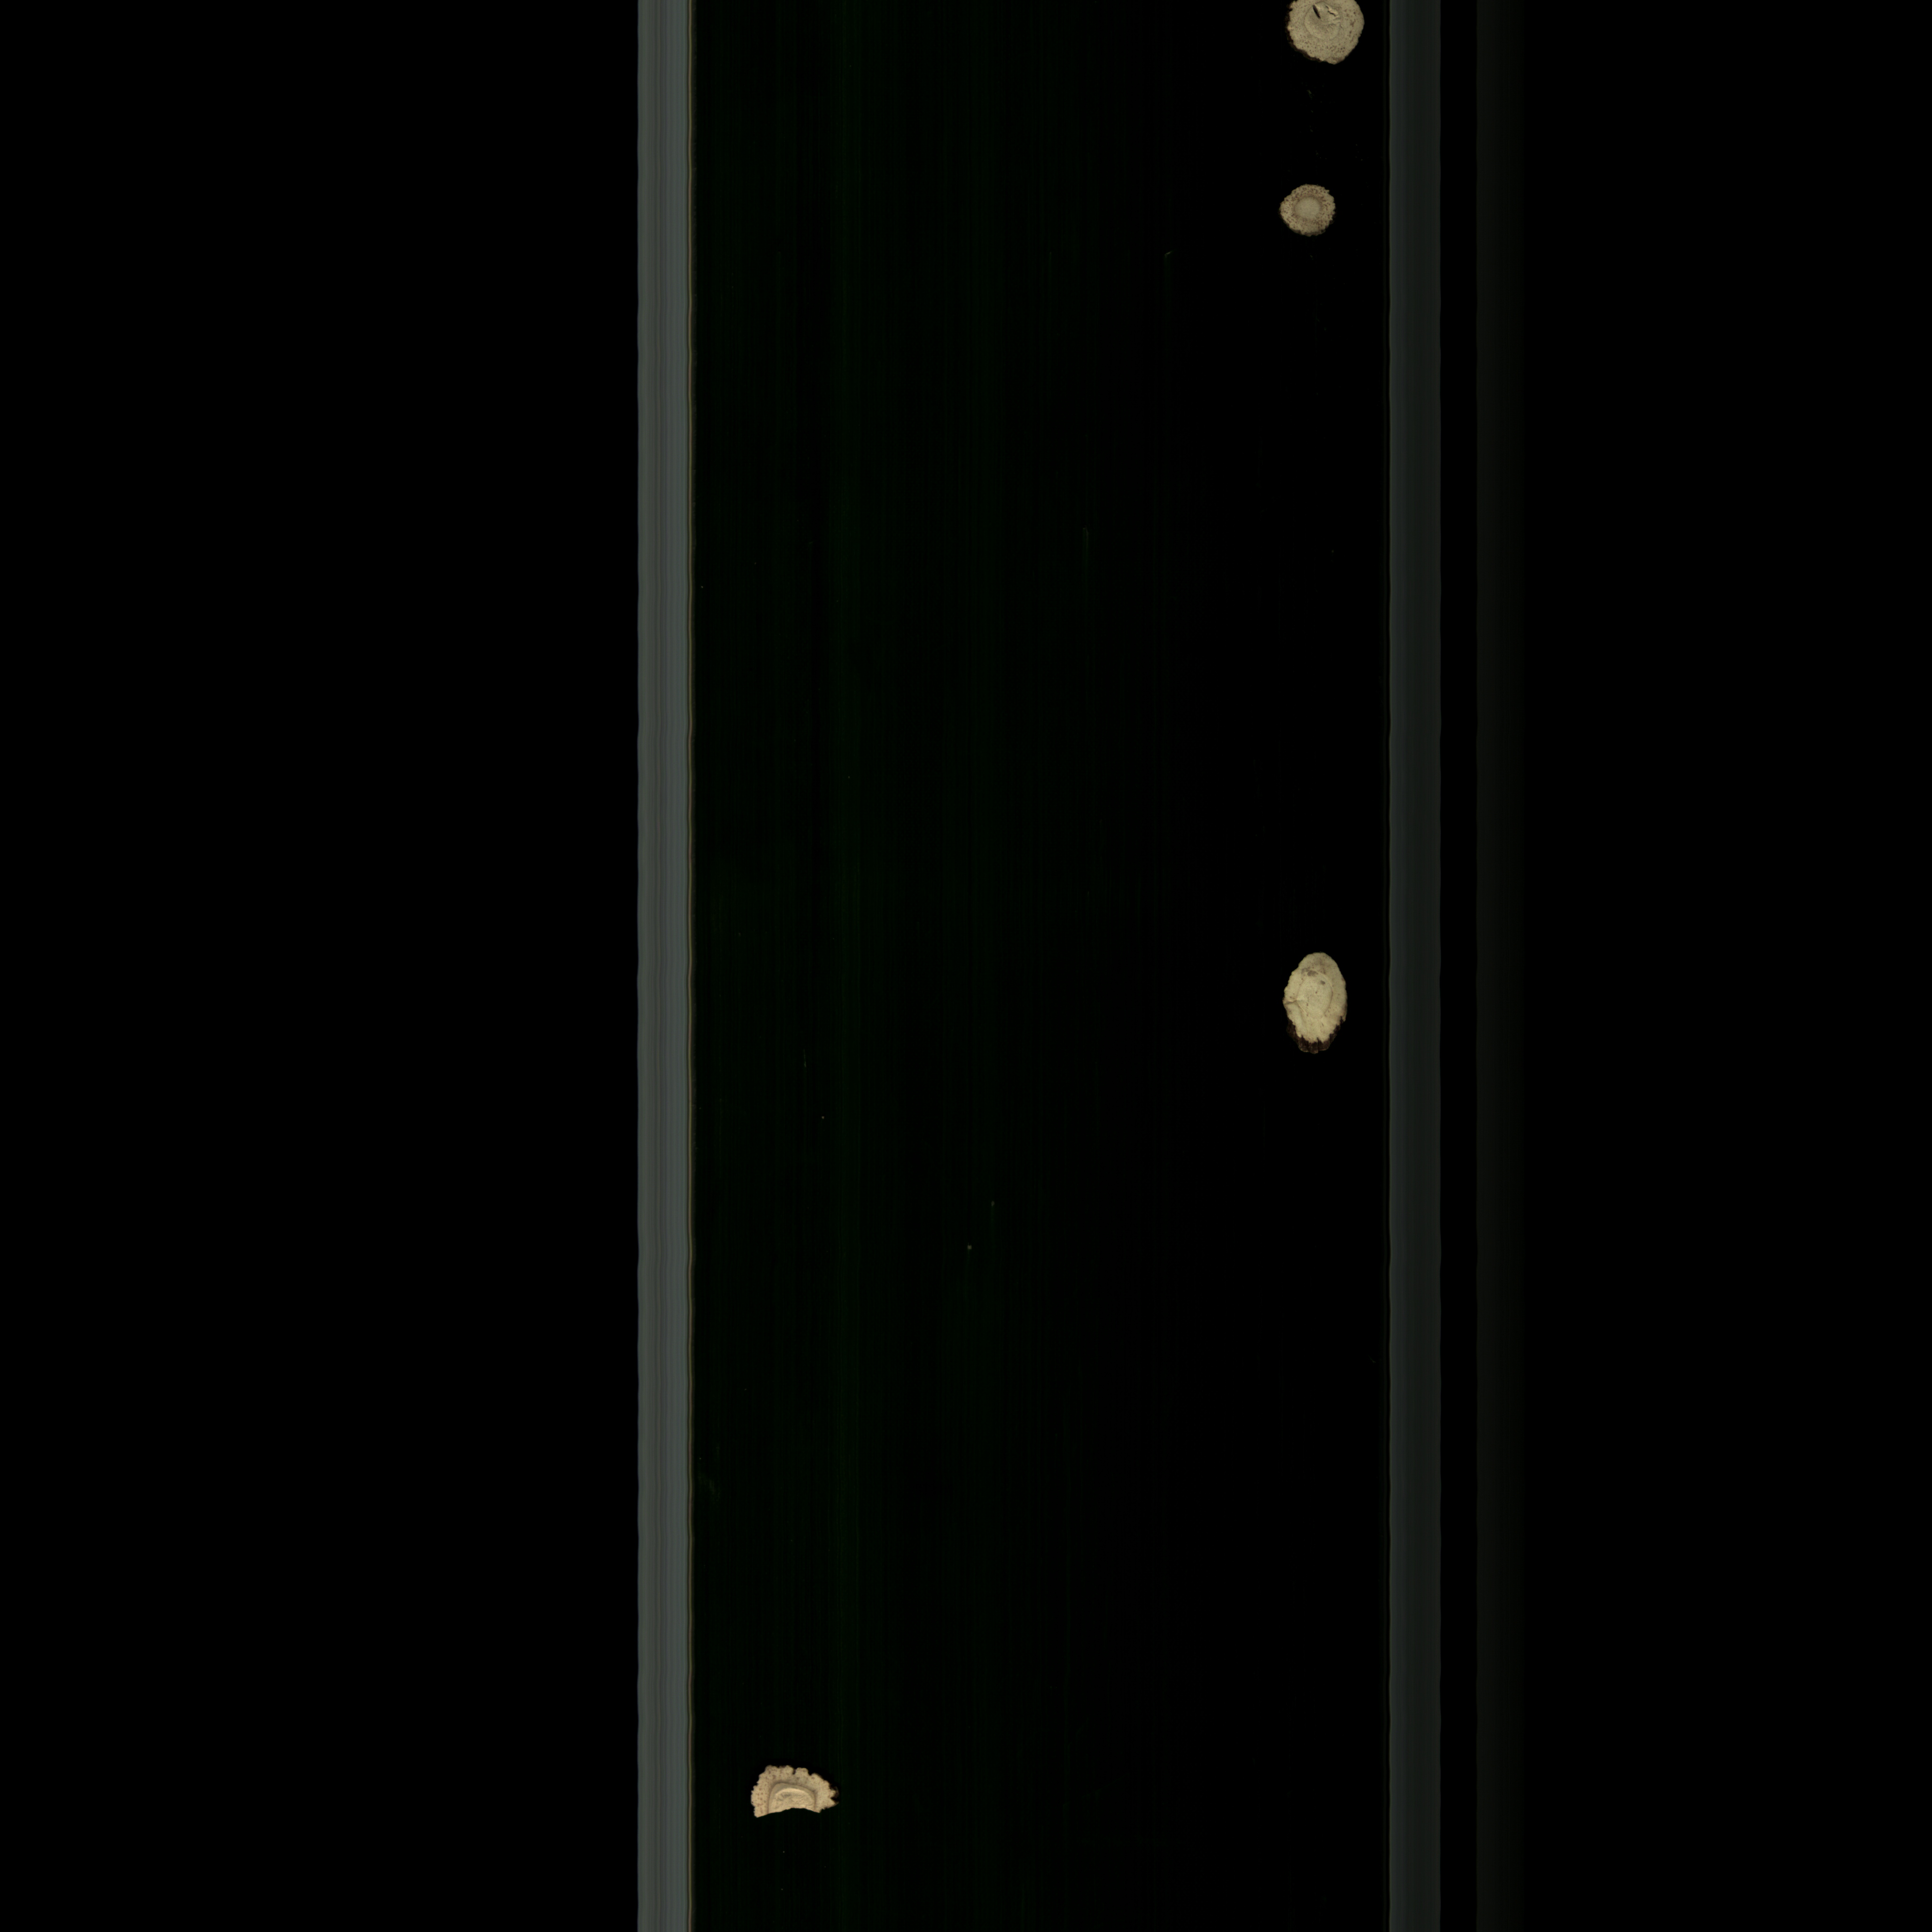debris: (738, 1762, 853, 1824)
distortion: (1276, 941, 1359, 1058)
moldy: (1272, 0, 1366, 73), (1269, 173, 1345, 246)
